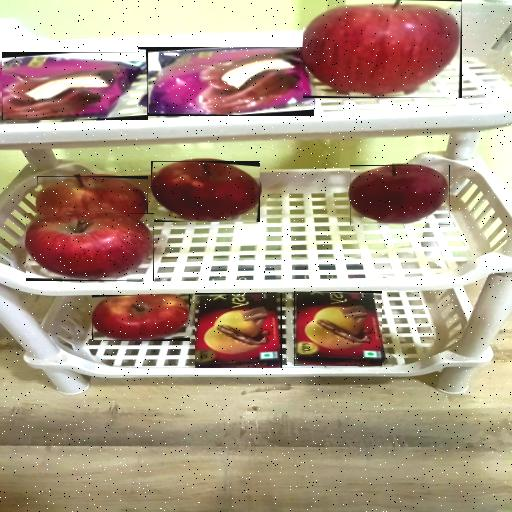Apple: (303, 0, 462, 98), (26, 213, 154, 281), (151, 161, 260, 222), (350, 165, 450, 225), (37, 176, 148, 222), (92, 295, 190, 341)
Choco Fills: (294, 291, 382, 366), (195, 293, 282, 368)
Choco Pie: (138, 47, 314, 116), (2, 52, 148, 120)
